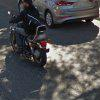Motorcycle: (3, 14, 59, 75)
